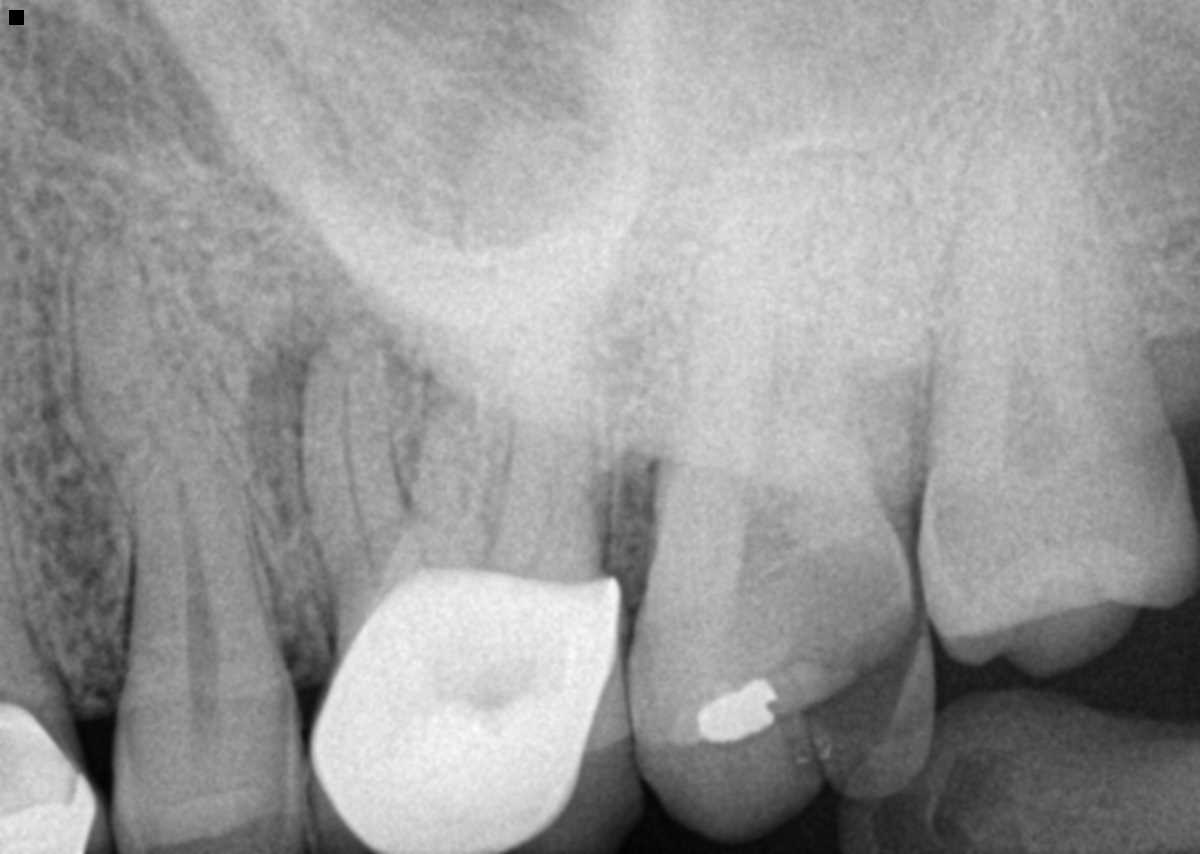Apical Lesion: (240, 281, 424, 522), (432, 60, 599, 213)
Distal Root: (784, 181, 925, 516), (489, 316, 606, 570)
Main Canal: (111, 277, 222, 681)
Main Root: (70, 228, 285, 690), (928, 107, 1167, 487), (0, 466, 70, 714)
Mesial Canal: (341, 353, 388, 599)
Mesial Root: (295, 311, 452, 617), (656, 240, 781, 514)
Palatal Root: (390, 108, 617, 583)
decay: (751, 535, 931, 744)
